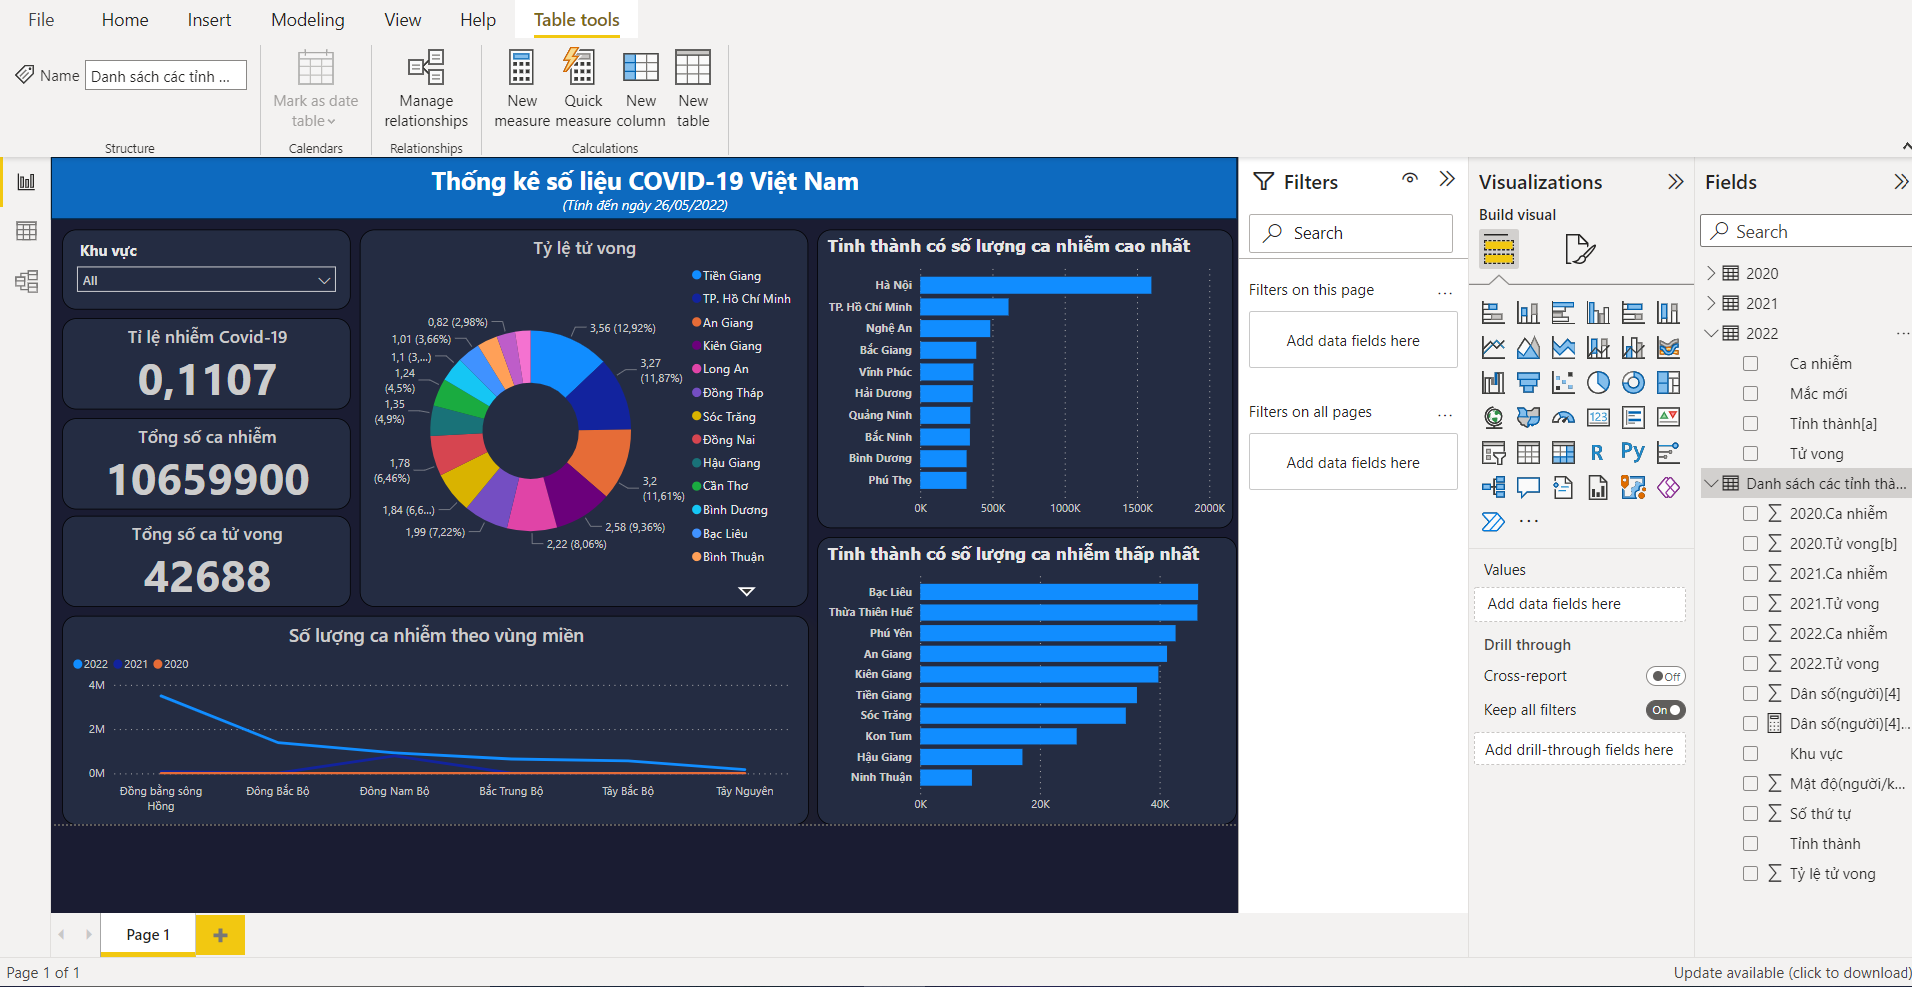

The page's visual inventory and layout, read from the dashboard file:
{"tool":"powerbi","page":{"name":"Page 1","canvas":[1280,720],"ordinal":0},"visuals":[{"type":"card","title":"Tổng số ca nhiễm","fields":{"Values":["Sum(Danh sách các tỉnh thành[sửa | sửa mã nguồn].2022.Ca nhiễm)"]},"box":[12.1,281.9,311.6,98.5],"z":0},{"type":"slicer","fields":{"Values":["Danh sách các tỉnh thành[sửa | sửa mã nguồn].Khu vực"]},"box":[12.1,78.2,311.6,86.3],"z":1000},{"type":"lineChart","title":"Số lượng ca nhiễm theo vùng miền","fields":{"Category":["Danh sách các tỉnh thành[sửa | sửa mã nguồn].Khu vực"],"Y":["Sum(Danh sách các tỉnh thành[sửa | sửa mã nguồn].2022.Ca nhiễm)","Sum(Danh sách các tỉnh thành[sửa | sửa mã nguồn].2021.Ca nhiễm)","Sum(Danh sách các tỉnh thành[sửa | sửa mã nguồn].2020.Ca nhiễm)"]},"box":[12.1,495,805.2,225.2],"z":2000},{"type":"barChart","title":"Tỉnh thành có số lượng ca nhiễm thấp nhất","fields":{"Category":["Danh sách các tỉnh thành[sửa | sửa mã nguồn].Tên tỉnh,thành phố"],"Y":["Sum(Danh sách các tỉnh thành[sửa | sửa mã nguồn].2022.Ca nhiễm)"]},"box":[826.8,410,453.2,310.2],"z":3000},{"type":"barChart","title":"Tỉnh thành có số lượng ca nhiễm cao nhất","fields":{"Category":["Danh sách các tỉnh thành[sửa | sửa mã nguồn].Tên tỉnh,thành phố"],"Y":["Sum(Danh sách các tỉnh thành[sửa | sửa mã nguồn].2022.Ca nhiễm)"]},"box":[826.8,78.2,449.1,322.4],"z":4000},{"type":"card","title":"Tổng số ca tử vong","fields":{"Values":["Sum(Danh sách các tỉnh thành[sửa | sửa mã nguồn].2022.Tử vong)"]},"box":[12.1,387.1,311.6,98.5],"z":5000},{"type":"textbox","box":[0,0,1280,67.4],"z":6000},{"type":"donutChart","title":"Tỷ lệ tử vong","fields":{"Category":["Danh sách các tỉnh thành[sửa | sửa mã nguồn].Tỉnh thành"],"Y":["Sum(Danh sách các tỉnh thành[sửa | sửa mã nguồn].Tỷ lệ tử vong)"]},"box":[333.2,78.2,484.2,407.3],"z":7000},{"type":"card","title":"Tỉ lệ nhiễm Covid-19 ","fields":{"Values":["Danh sách các tỉnh thành[sửa | sửa mã nguồn].Dân số(người)[4] divided by 2022.Ca nhiễm"]},"box":[12.1,174,311.6,98.5],"z":7001}]}

Visuals, with their boxes on the page's 1280x720 design canvas (x1, y1, x2, y2). These are canvas units, not pixel positions in the 1912x987 screenshot, which may show the page scaled, cropped or inside an application window:
"Tổng số ca nhiễm" card: [12,282,324,380]
slicer - Danh sách các tỉnh thành[sửa | sửa mã nguồn].Khu vực: [12,78,324,164]
"Số lượng ca nhiễm theo vùng miền" lineChart: [12,495,817,720]
"Tỉnh thành có số lượng ca nhiễm thấp nhất" barChart: [827,410,1280,720]
"Tỉnh thành có số lượng ca nhiễm cao nhất" barChart: [827,78,1276,401]
"Tổng số ca tử vong" card: [12,387,324,486]
textbox: [0,0,1280,67]
"Tỷ lệ tử vong" donutChart: [333,78,817,486]
"Tỉ lệ nhiễm Covid-19 " card: [12,174,324,272]
